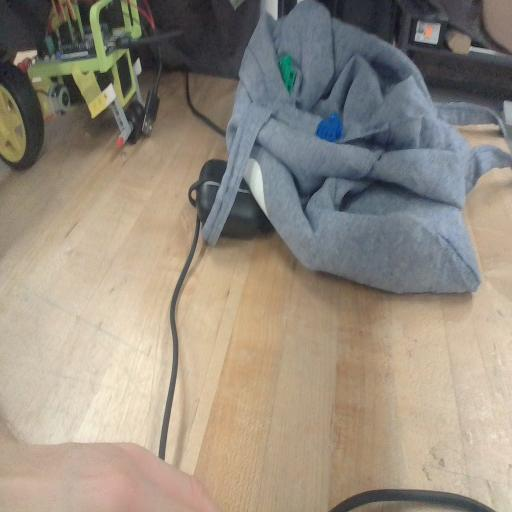blue LEGO minifig: (314, 106, 346, 146)
green LEGO minifig: (275, 44, 297, 95)
